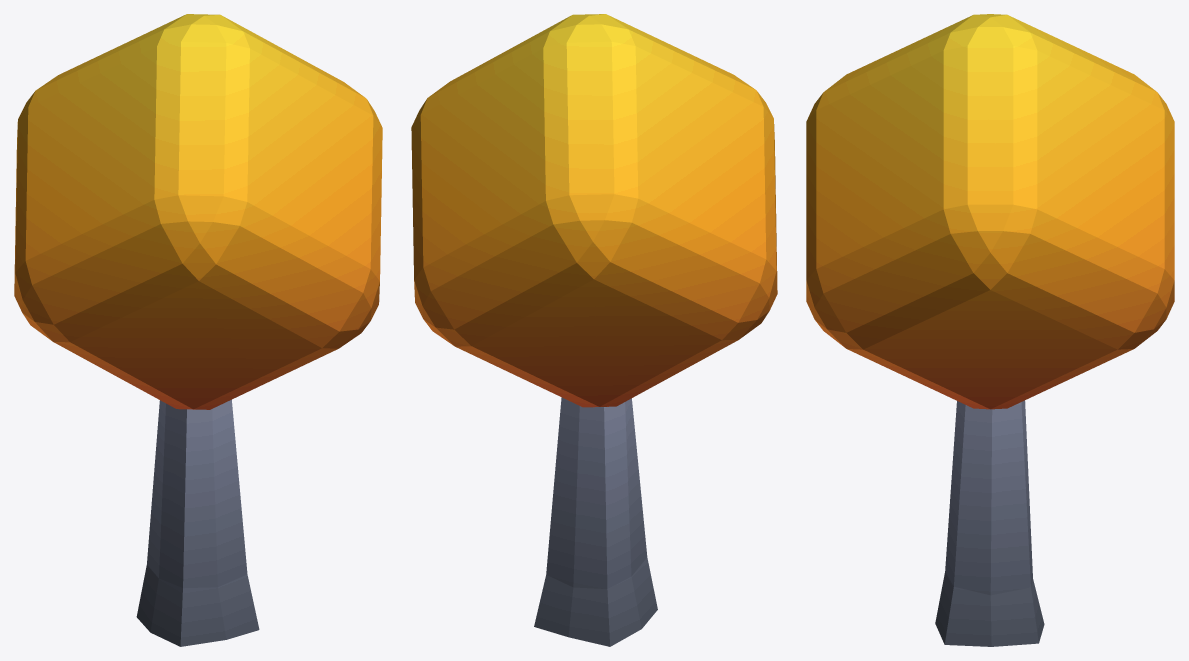
Rendered from Birch_H.glb.
The picture shows the model from 3 angles, left to right: view 1: azimuth 30°, elevation 25°; view 2: azimuth 150°, elevation 25°; view 3: azimuth 270°, elevation 25°; orthographic projection.
Visible parts, largest first — view 1: Birch_Leaves_M, Birch_Trunk_M; view 2: Birch_Leaves_M, Birch_Trunk_M; view 3: Birch_Leaves_M, Birch_Trunk_M.
Part boxes in pixels (x1,y1,x2,y2): Birch_Leaves_M: (14,14,382,409); Birch_Trunk_M: (136,399,259,646); Birch_Leaves_M: (411,14,777,407); Birch_Trunk_M: (534,397,657,646); Birch_Leaves_M: (806,14,1174,409); Birch_Trunk_M: (935,400,1044,646).
Size of the model in its own units: 1.99 by 3.25 by 1.79.
Materials: 1 (1 with a texture image).
